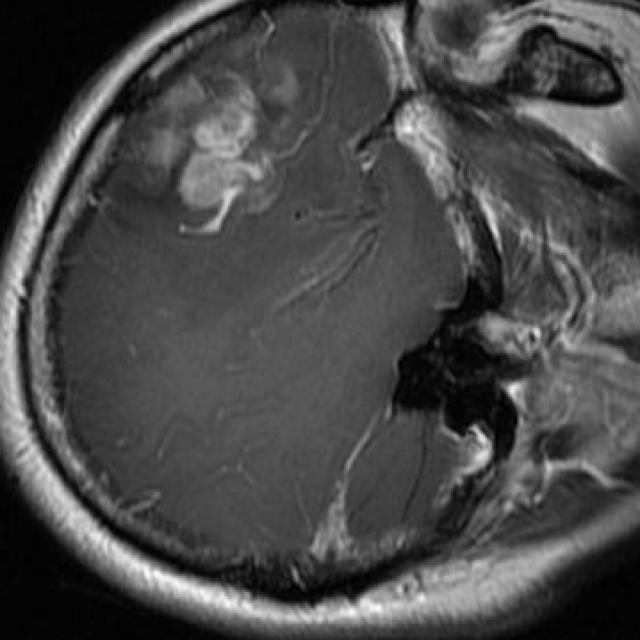glioma: (114, 29, 301, 237)
